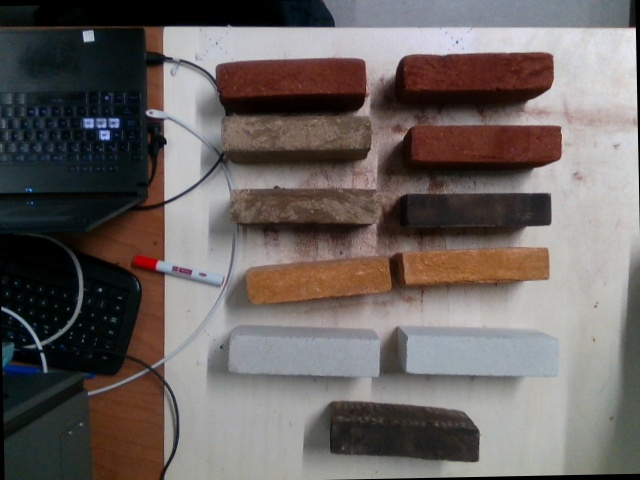brick-side: (332, 418, 481, 463), (219, 55, 367, 99), (231, 335, 380, 377), (411, 123, 560, 164), (251, 260, 393, 301), (405, 245, 549, 285), (408, 336, 557, 374), (402, 54, 550, 91), (404, 192, 554, 225), (237, 189, 378, 224), (226, 116, 371, 149)
